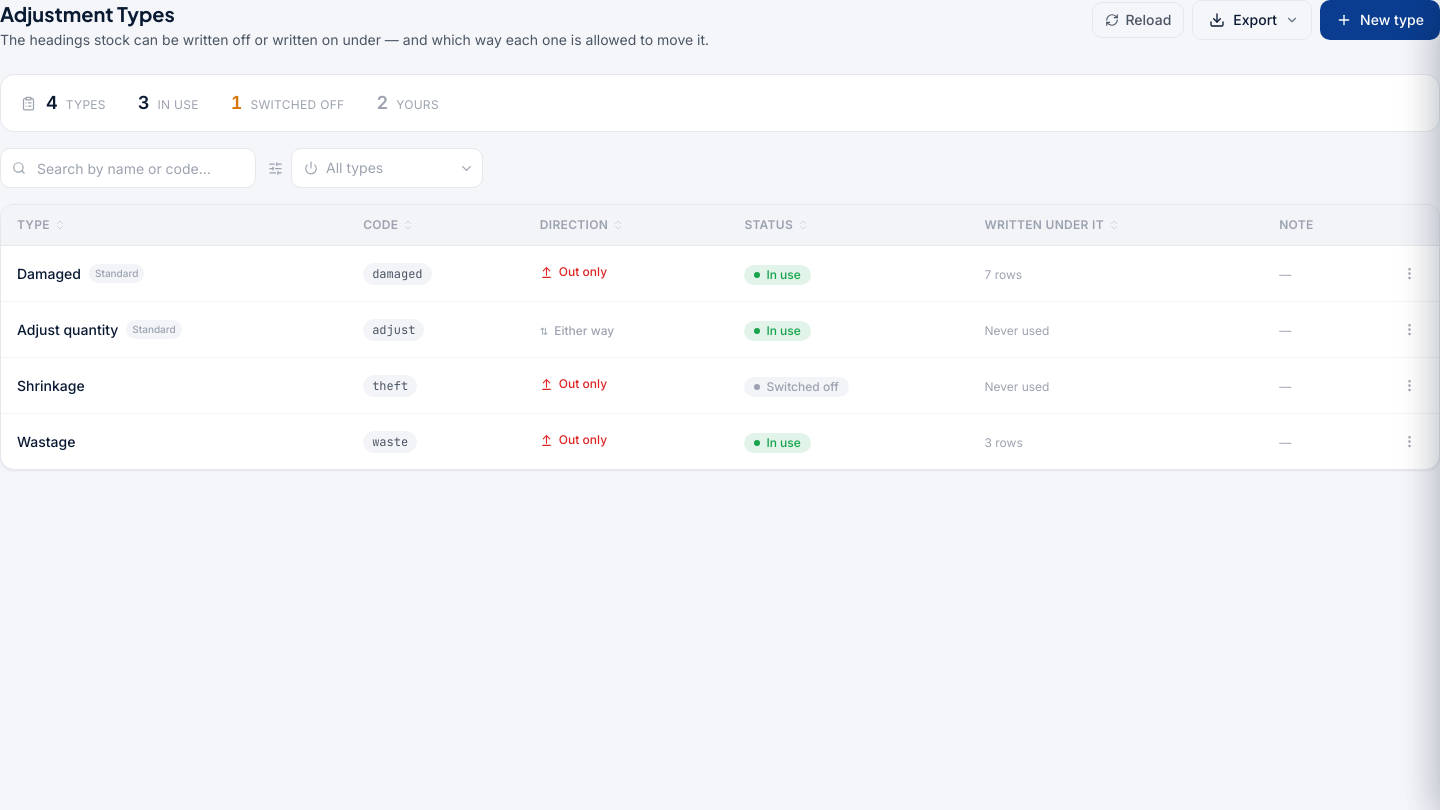
the drawer › says nothing of the sort for one nothing has been written under
The width and height of the screenshot is (1440, 810).
Click the text "Adjust quantity" at (68, 330), box [17, 320, 118, 340]
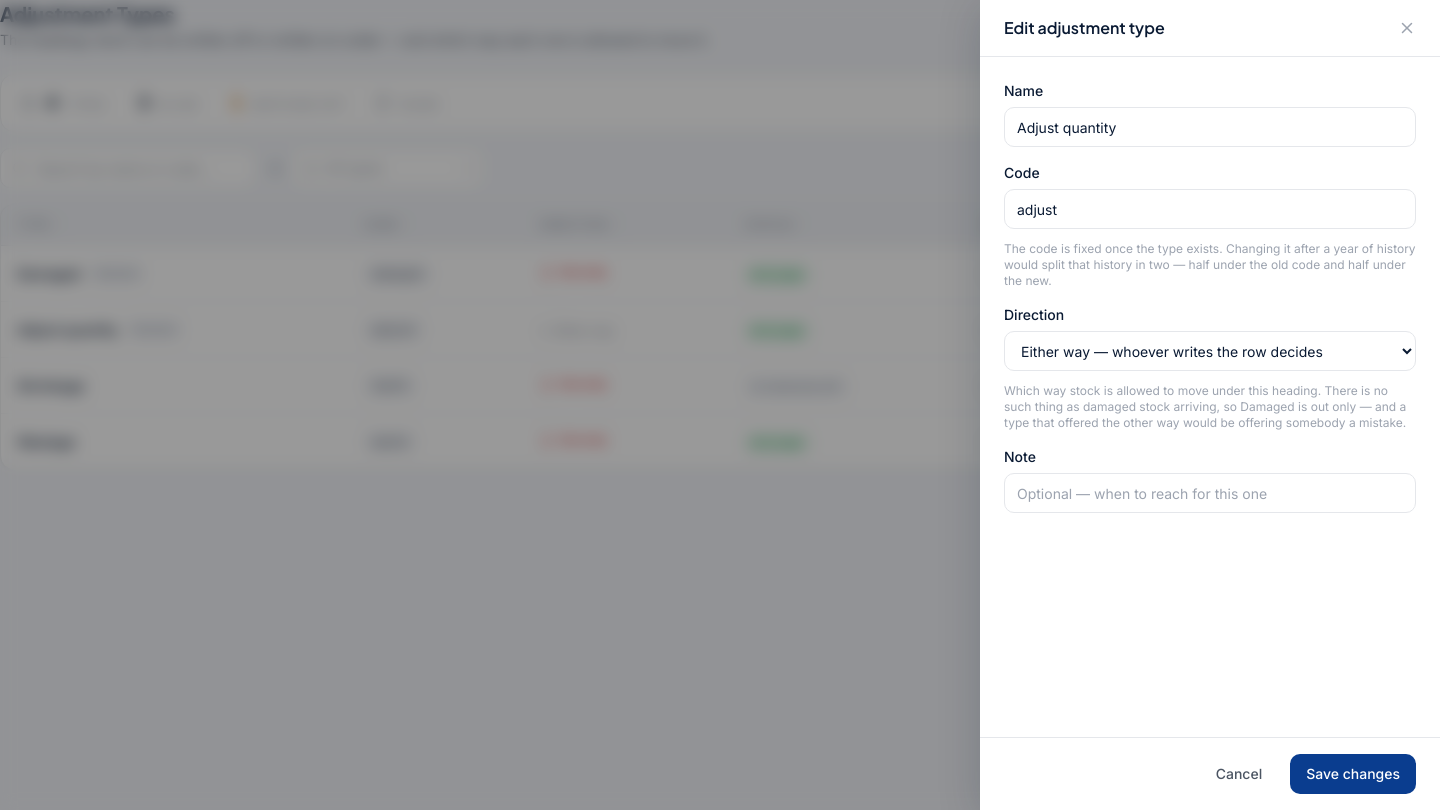
Result: the field labelled "Name" holds "Adjust quantity" at [1004, 107, 1416, 147]
